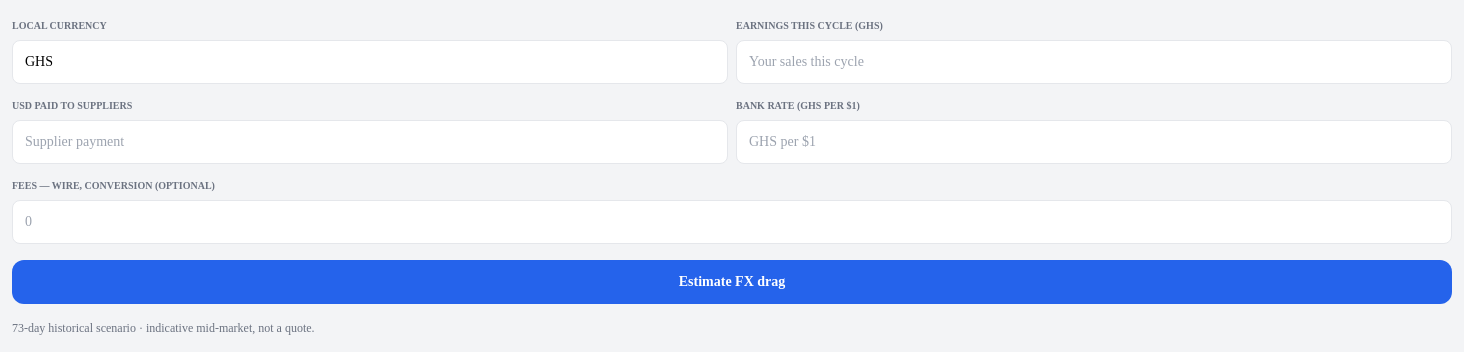
LastCycleDrag › no separate "converting on arrival" counterfactual box remains
Type "100000" into the field labelled "Earnings this cycle (GHS)" at point(1094, 62), box [736,40,1452,84]
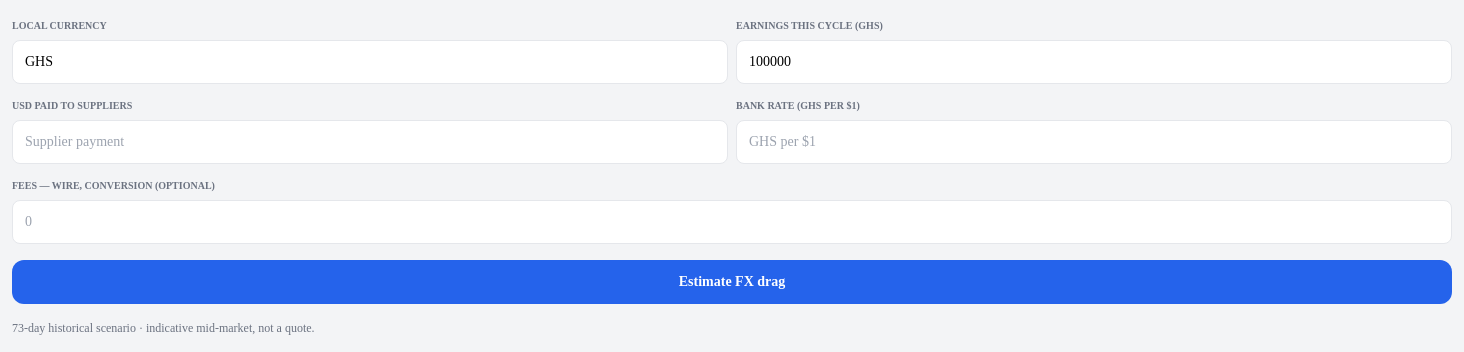
Type "5000" into the field labelled "USD paid to suppliers" at point(370, 142), box [12,120,728,164]
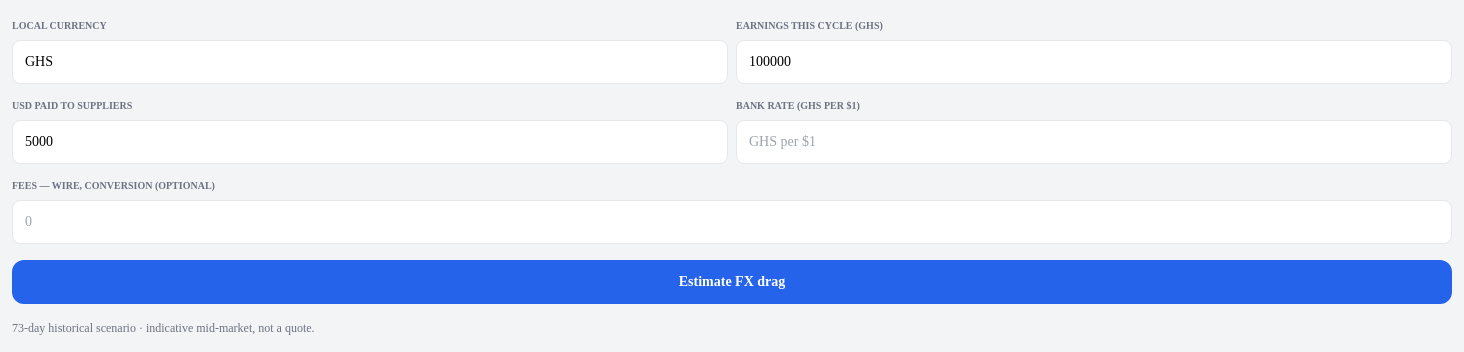
Type "16" into the field labelled "Bank rate (GHS per $1)" at point(1094, 142), box [736,120,1452,164]
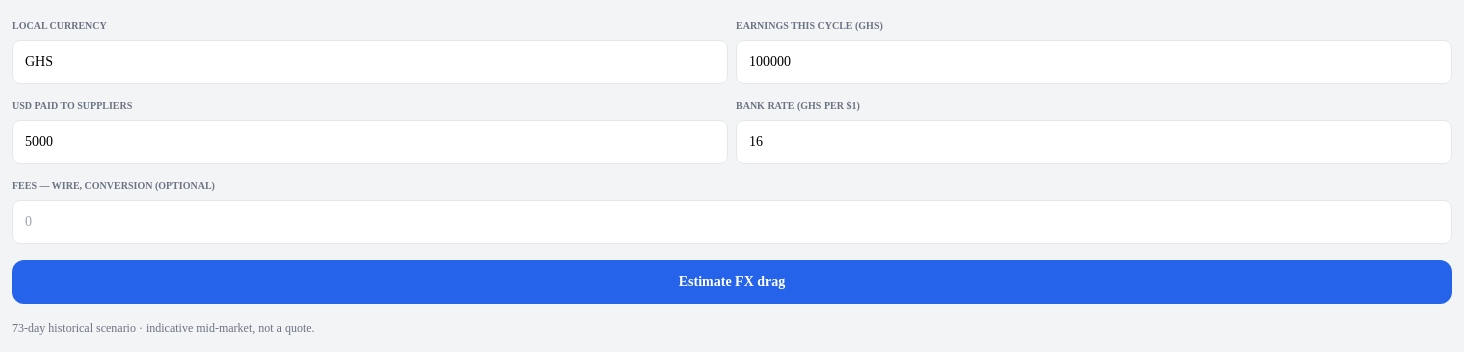
Click the button "Estimate FX drag" at point(732, 282), box [12,260,1452,304]
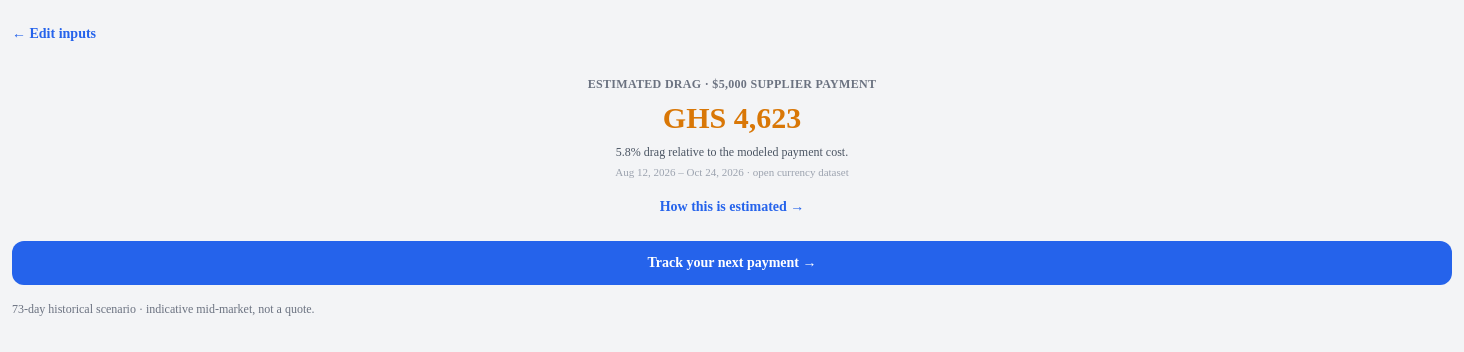
Result: the element with test id "last-cycle-result" is shown at [12,72,1452,284]
Result: the text "5.8% drag relative to the modeled payment cost." is shown at [616,145,848,159]
